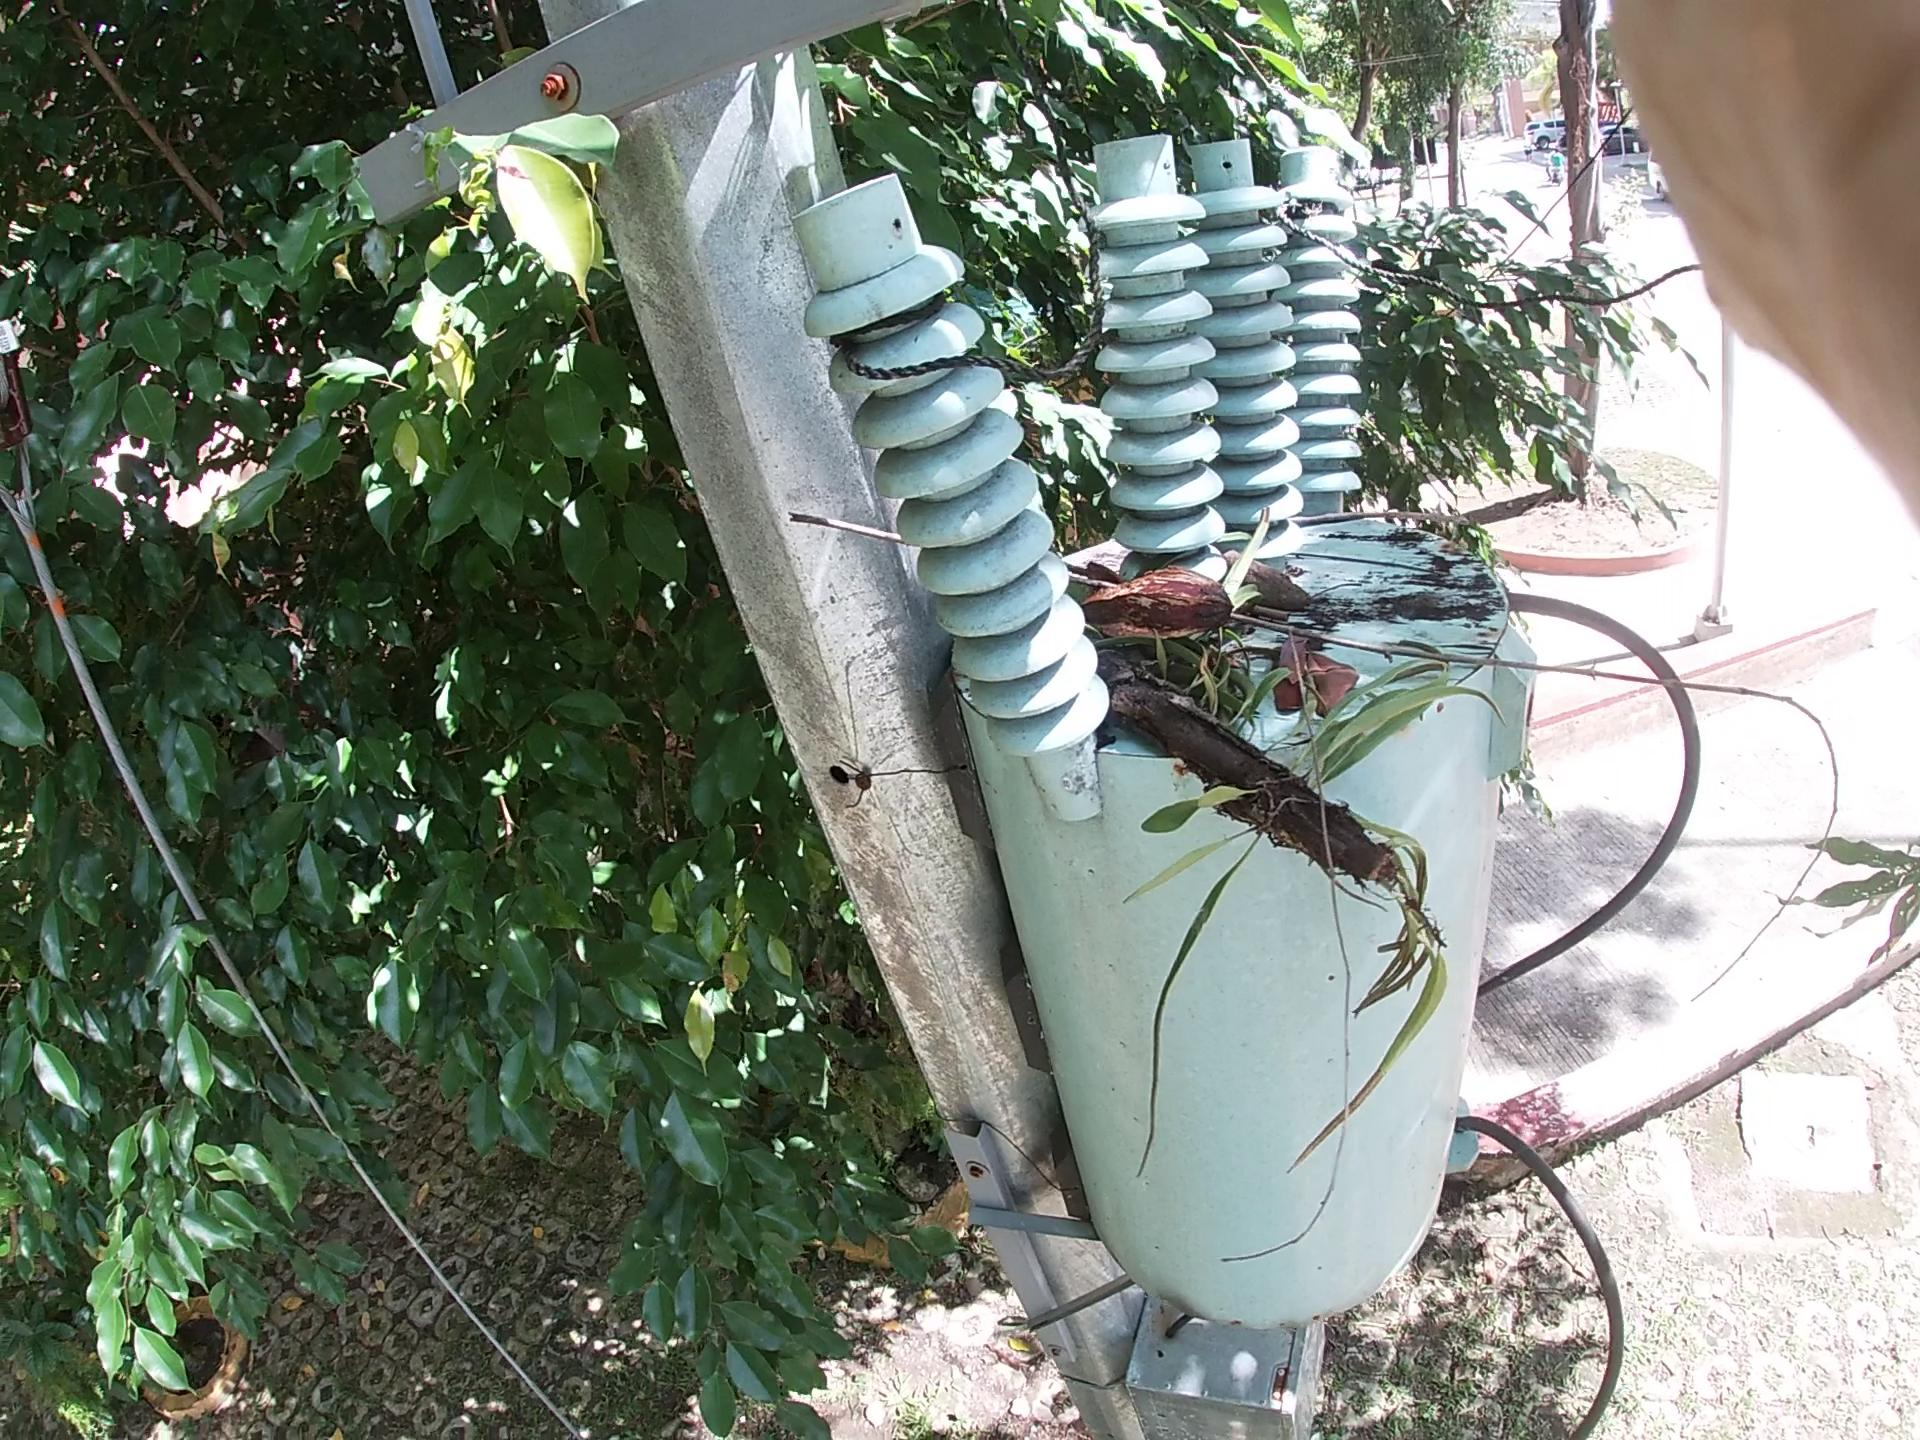branch with leaves: (1092, 622, 1563, 995)
leaf: (1268, 626, 1401, 740)
mahogany fruit: (1054, 520, 1277, 659)
tree branch: (868, 520, 1920, 849), (1200, 493, 1601, 555)
